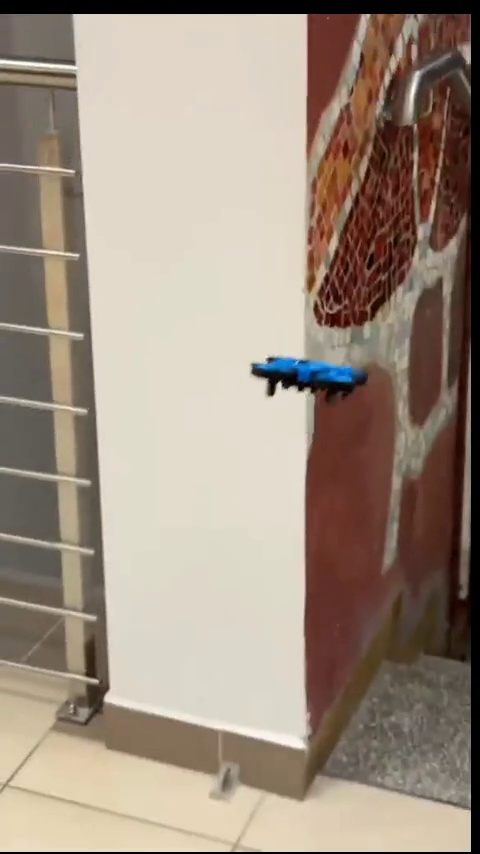drone: (251, 346, 364, 402)
